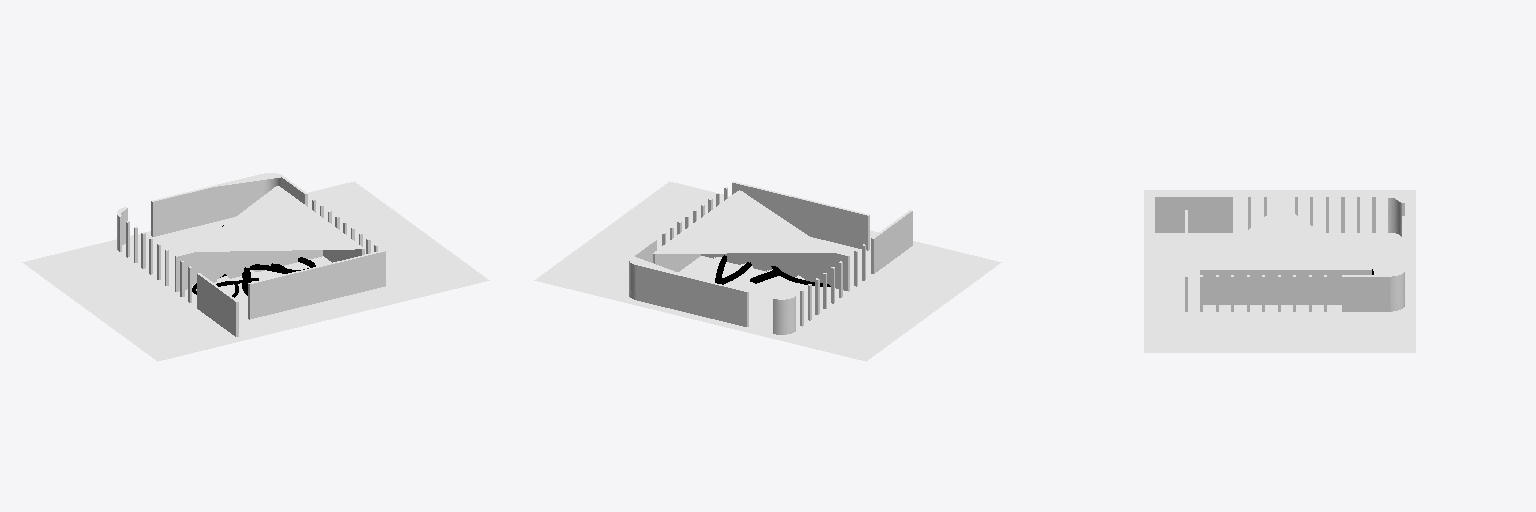
3 views of the same model, side by side, from view 1: azimuth 30°, elevation 25°; view 2: azimuth 150°, elevation 25°; view 3: azimuth 270°, elevation 25° (orthographic).
Parts seen in each view (by area): view 1: mapp.png, object_2, object_26, object_21, object_1, object_22, object_27, object_25; view 2: mapp.png, object_2, object_21, object_26, object_1, object_19, object_22, object_25; view 3: mapp.png, object_2, object_1, object_18, object_21, object_19.
Boxes of the visible parts, x1=… form: mapp.png: x1=22, y1=181, x2=489, y2=361; object_2: x1=175, y1=186, x2=364, y2=291; object_26: x1=262, y1=250, x2=385, y2=315; object_21: x1=167, y1=173, x2=283, y2=232; object_1: x1=197, y1=273, x2=238, y2=336; object_22: x1=151, y1=197, x2=167, y2=236; object_27: x1=192, y1=257, x2=315, y2=297; object_25: x1=248, y1=280, x2=262, y2=319; mapp.png: x1=534, y1=181, x2=1001, y2=361; object_2: x1=653, y1=190, x2=849, y2=291; object_21: x1=629, y1=256, x2=733, y2=323; object_26: x1=732, y1=181, x2=855, y2=247; object_1: x1=871, y1=210, x2=912, y2=273; object_19: x1=773, y1=295, x2=795, y2=334; object_22: x1=733, y1=288, x2=748, y2=326; object_25: x1=855, y1=211, x2=869, y2=250; mapp.png: x1=1144, y1=190, x2=1415, y2=352; object_2: x1=1200, y1=197, x2=1371, y2=304; object_1: x1=1155, y1=196, x2=1232, y2=232; object_18: x1=1342, y1=275, x2=1387, y2=311; object_21: x1=1388, y1=223, x2=1404, y2=311; object_19: x1=1388, y1=196, x2=1404, y2=236.
Bounding box in the file's own units: 14820 × 1678 × 10477.